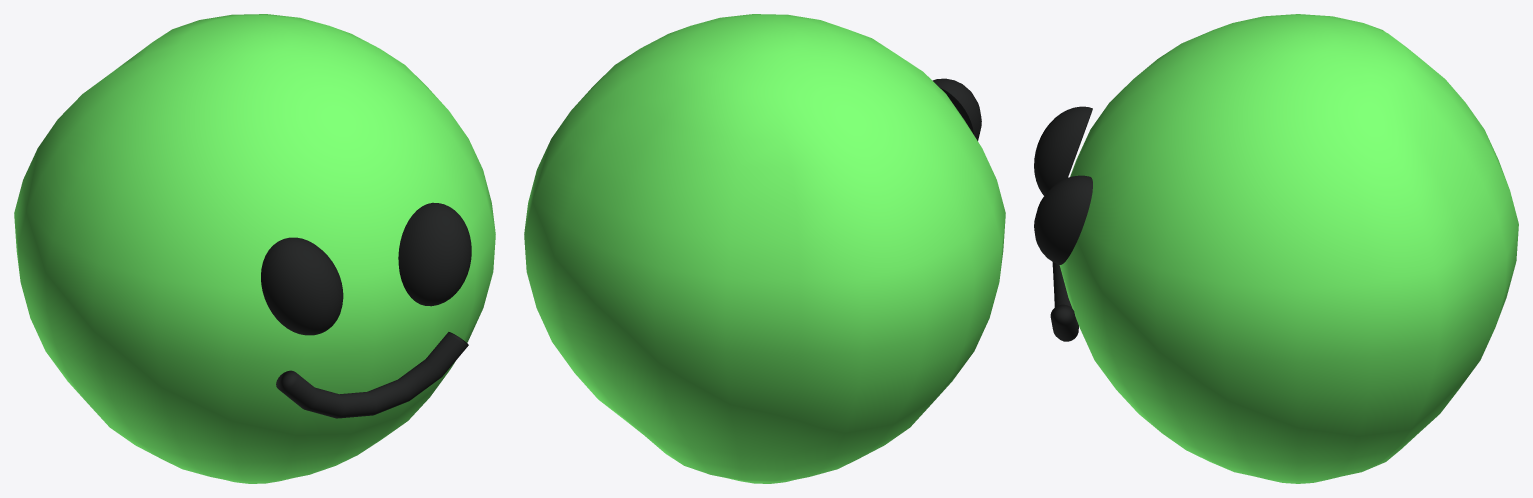
Rendered from alien.gltf.
The picture shows the model from 3 angles, left to right: view 1: azimuth 30°, elevation 25°; view 2: azimuth 150°, elevation 25°; view 3: azimuth 270°, elevation 25°; orthographic projection.
Parts seen in each view (by area): view 1: alien_head, alien_face; view 2: alien_head, alien_face; view 3: alien_head, alien_face.
Boxes of the visible parts, left/top/right/bottom form: alien_head: left=14, top=14, right=495, bottom=483; alien_face: left=261, top=202, right=471, bottom=418; alien_head: left=524, top=14, right=1005, bottom=483; alien_face: left=932, top=78, right=981, bottom=140; alien_head: left=1059, top=14, right=1518, bottom=483; alien_face: left=1034, top=106, right=1092, bottom=341.
Size of the model in its own units: 1.98 by 2 by 1.98.
